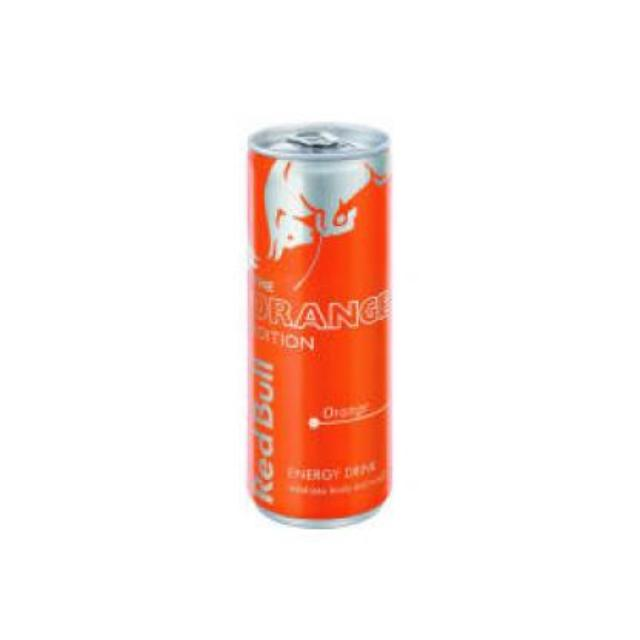metal: (248, 122, 386, 522)
